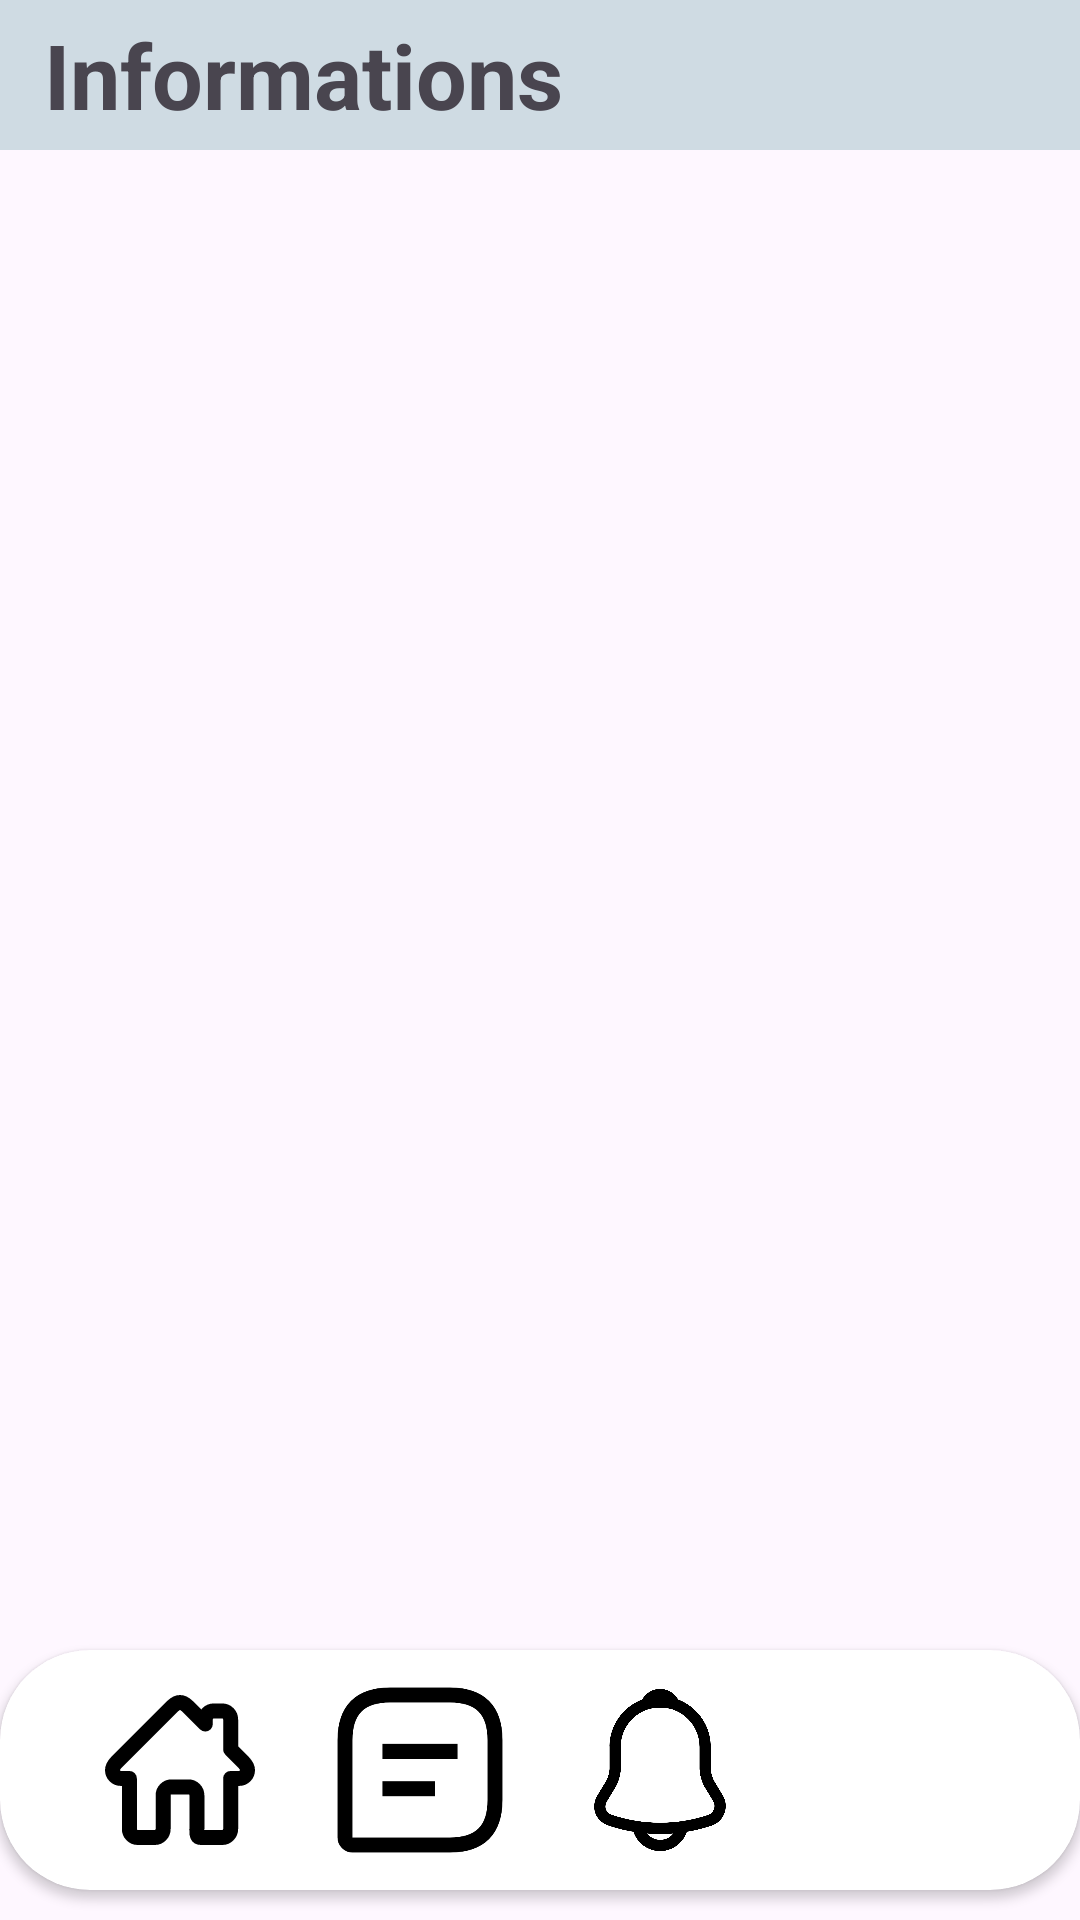

Point at icon controls on the screen. Image size 1080x1920, points as (x=x, y=y).
chat: (x=420, y=1770)
home: (x=180, y=1770)
notification: (x=660, y=1770)
